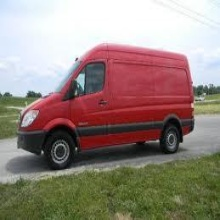no damage: (16, 42, 196, 170)
